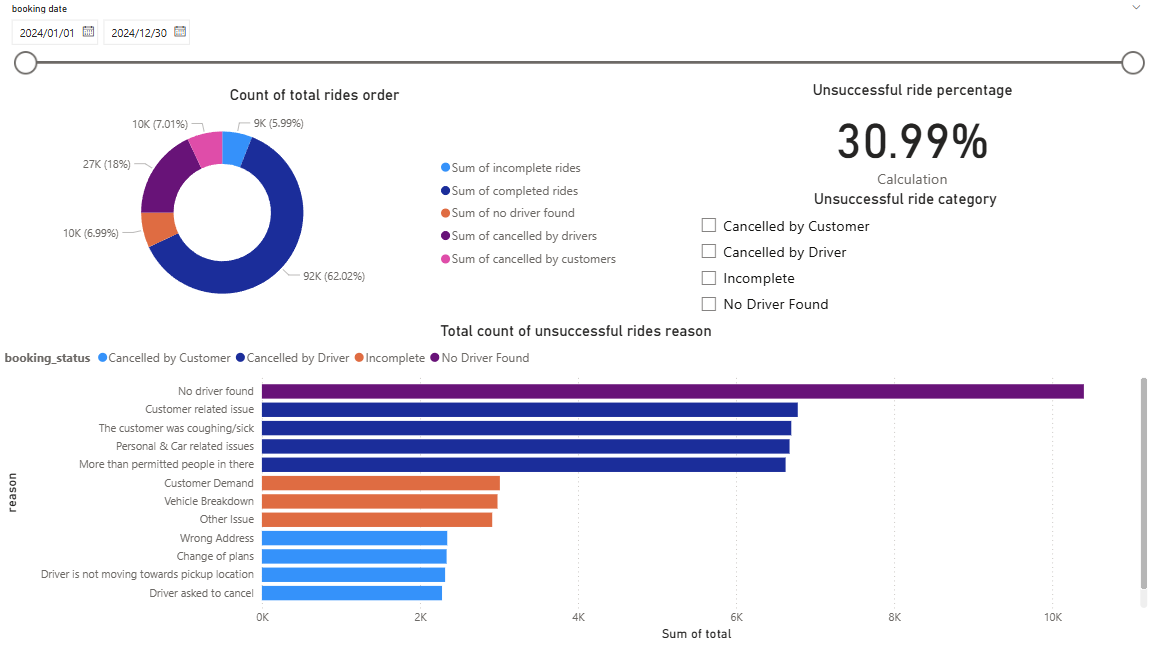

The page's visual inventory and layout, read from the dashboard file:
{"tool":"powerbi","page":{"name":"Unsuccessful Ride Summary","canvas":[1280,720],"ordinal":1},"visuals":[{"type":"donutChart","title":"Count of total rides order","fields":{"Y":["Sum(public daily_rides.incompele_rides)","Sum(public daily_rides.completed_rides)","Sum(public daily_rides.no_driver_found)","Sum(public daily_rides.cancelled_by_drivers)","Sum(public daily_rides.cancelled_by_customers)"]},"box":[0,97.8,698.9,262.2],"z":0},{"type":"card","title":"Unsuccessful ride percentage","fields":{"Values":["Sum(public daily_rides.total_rides)","Sum(public daily_rides.cancelled_by_customers)","Sum(public daily_rides.cancelled_by_drivers)","Sum(public daily_rides.completed_rides)","Sum(public daily_rides.incompele_rides)","select"]},"box":[765.6,92.2,514.4,121.1],"z":1000},{"type":"barChart","title":"Total count of unsuccessful rides reason","fields":{"Category":["public cancellation_summary.reason"],"Series":["public cancellation_summary.booking_status"],"Y":["Sum(public cancellation_summary.count)"]},"box":[0,360,1280,360],"z":2000},{"type":"slicer","title":"Unsuccessful ride category","fields":{"Values":["public cancellation_summary.booking_status"]},"box":[766.7,213.3,513.3,146.7],"z":3000},{"type":"slicer","fields":{"Values":["public cancellation_summary.ride_date"]},"box":[0,0,1280,92.2],"z":4000}]}

Visuals, with their boxes in screenshot pixels (x1, y1, x2, y2), scaled from the page's 1280x720 canvas onto the 1149x645 screenshot:
"Count of total rides order" donutChart: <bbox>0, 88, 627, 322</bbox>
"Unsuccessful ride percentage" card: <bbox>687, 83, 1148, 191</bbox>
"Total count of unsuccessful rides reason" barChart: <bbox>0, 322, 1148, 644</bbox>
"Unsuccessful ride category" slicer: <bbox>688, 191, 1148, 322</bbox>
slicer - public cancellation_summary.ride_date: <bbox>0, 0, 1148, 83</bbox>
